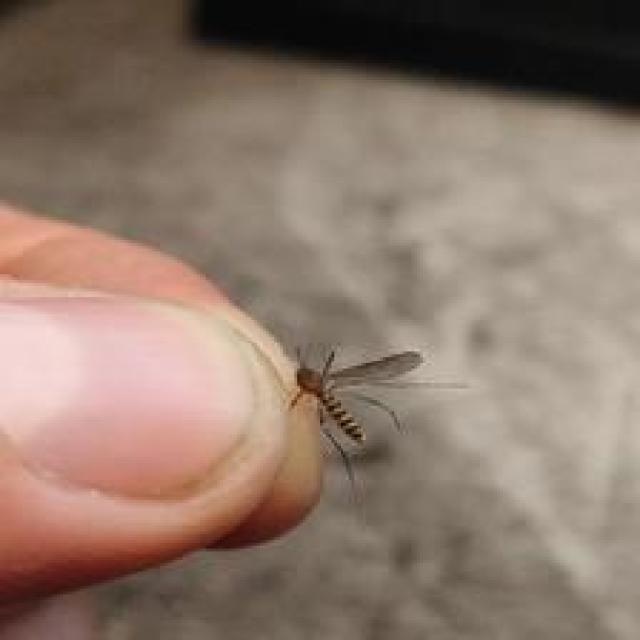Culex: (283, 340, 468, 503)
